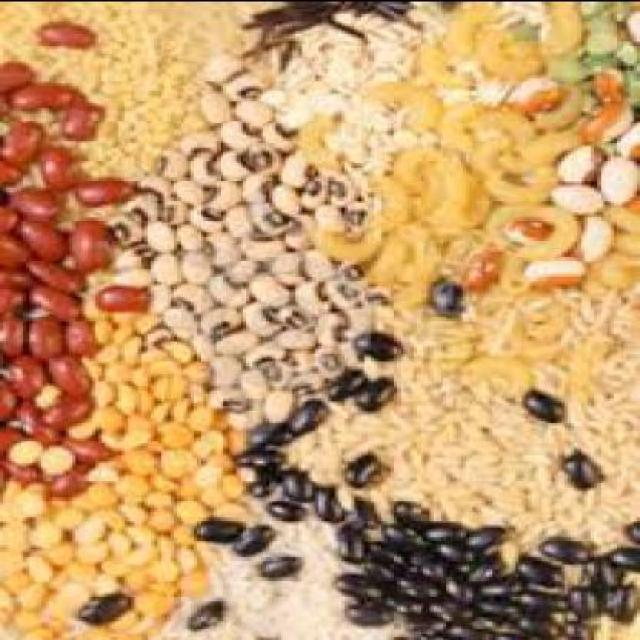BIODEGRADABLE: (292, 5, 637, 310), (102, 64, 370, 427), (286, 298, 636, 556), (0, 308, 249, 637), (0, 1, 212, 176), (155, 492, 407, 638), (378, 498, 636, 638), (233, 0, 410, 68), (160, 1, 271, 56), (361, 75, 444, 127), (469, 33, 545, 79), (288, 109, 338, 166), (534, 1, 583, 56), (578, 94, 630, 144), (476, 164, 552, 198), (66, 215, 114, 268), (548, 139, 604, 184), (516, 254, 581, 288), (20, 254, 82, 288), (309, 223, 374, 255), (27, 16, 88, 50), (36, 389, 92, 426), (440, 5, 482, 54), (571, 208, 611, 258), (597, 154, 637, 203), (4, 181, 65, 213), (410, 42, 456, 84), (10, 79, 72, 110), (72, 590, 131, 622), (69, 173, 128, 204), (247, 194, 296, 231), (13, 218, 65, 252), (30, 282, 85, 313), (0, 117, 37, 163), (548, 180, 601, 212), (56, 92, 96, 134), (508, 75, 552, 112), (384, 143, 421, 186), (558, 338, 594, 382), (558, 449, 600, 486), (26, 312, 60, 357), (286, 395, 320, 439), (354, 372, 398, 406), (512, 385, 558, 417), (459, 248, 493, 290), (40, 461, 86, 492), (334, 453, 380, 484), (181, 598, 227, 628), (58, 318, 96, 354), (340, 492, 378, 528), (42, 148, 76, 188), (288, 171, 322, 211), (328, 568, 378, 595), (246, 416, 289, 447), (223, 69, 266, 100), (56, 429, 109, 454), (328, 526, 368, 559), (239, 136, 279, 169), (9, 352, 43, 390), (229, 520, 269, 552), (92, 281, 145, 305), (338, 594, 391, 618), (276, 149, 310, 186), (236, 167, 273, 201), (210, 147, 247, 181), (348, 330, 397, 355), (46, 354, 86, 384), (262, 491, 300, 522), (324, 367, 362, 398), (0, 312, 26, 357), (304, 482, 338, 516), (266, 181, 302, 213), (187, 516, 239, 538), (502, 213, 542, 241), (252, 116, 292, 144), (230, 95, 276, 119), (0, 257, 34, 289), (426, 278, 460, 310), (207, 117, 250, 141), (0, 60, 29, 94), (322, 169, 351, 203), (250, 551, 296, 572), (0, 434, 40, 458), (280, 468, 308, 501), (611, 117, 637, 151), (233, 448, 276, 467), (0, 282, 26, 313), (0, 232, 26, 263), (0, 377, 20, 417), (246, 466, 272, 494), (13, 398, 33, 432), (36, 445, 66, 466), (0, 461, 40, 476), (0, 425, 23, 449), (1, 203, 16, 231)
